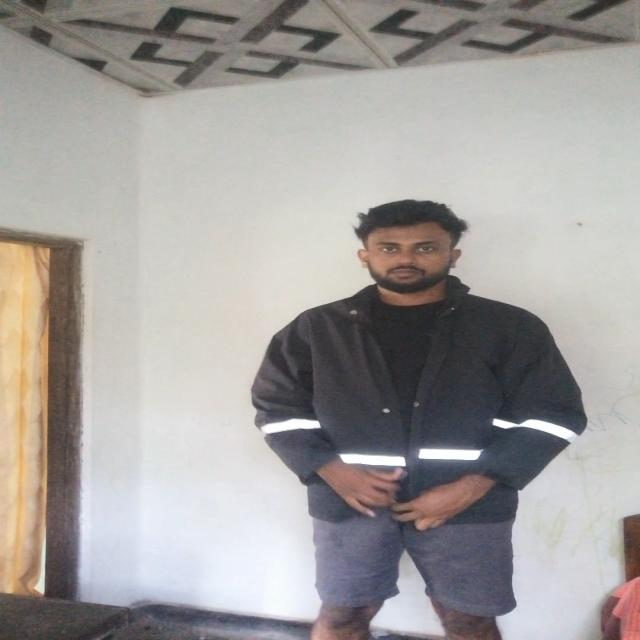Jacket_Wearer: (227, 262, 585, 526)
